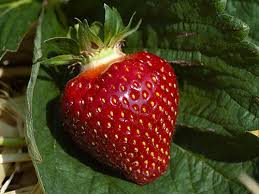Fresa: (59, 48, 184, 185)
